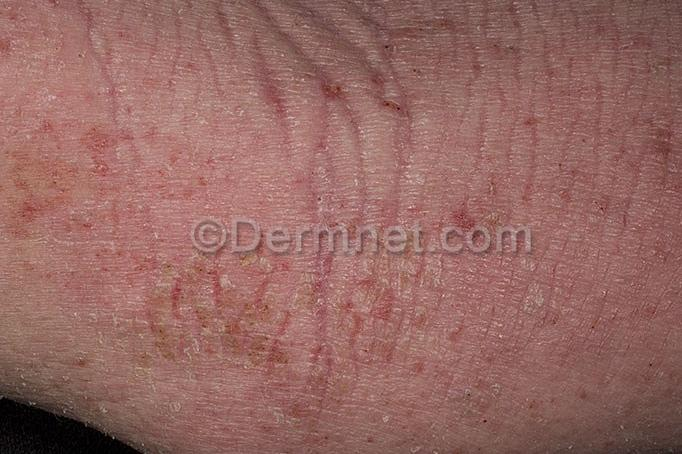Eritema 2: (11, 0, 682, 381)
excoriacion 2: (127, 201, 453, 413), (21, 121, 214, 271), (387, 176, 522, 243)
liquenificacion 2: (0, 0, 682, 454)
xerosis 2: (0, 0, 682, 454)
